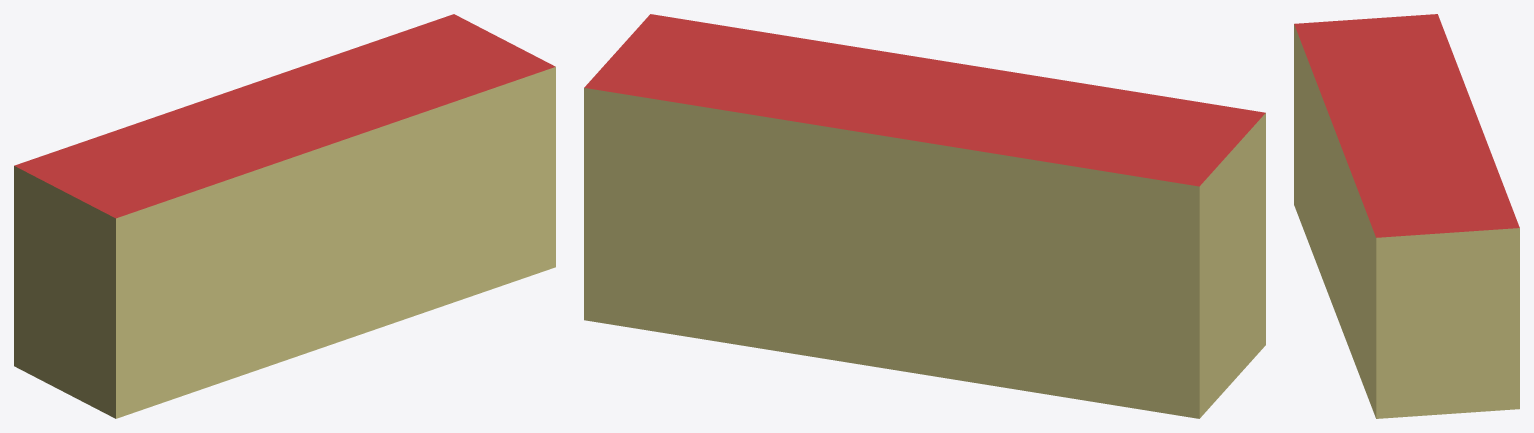
3 views of the same model, side by side, from view 1: azimuth 30°, elevation 25°; view 2: azimuth 150°, elevation 25°; view 3: azimuth 270°, elevation 25° (orthographic). The views are drawn at different scales.
Visible parts, largest first — view 1: group_4, group_3; view 2: group_4, group_3; view 3: group_4, group_3.
Boxes of the visible parts, x1,y1,x2,y2 form: group_4: (14,67,555,418); group_3: (14,14,555,218); group_4: (584,88,1265,418); group_3: (584,14,1265,186); group_4: (1294,24,1519,418); group_3: (1294,14,1519,237).
Bounding box in the file's own units: 16.6 × 7.08 × 6.27.
